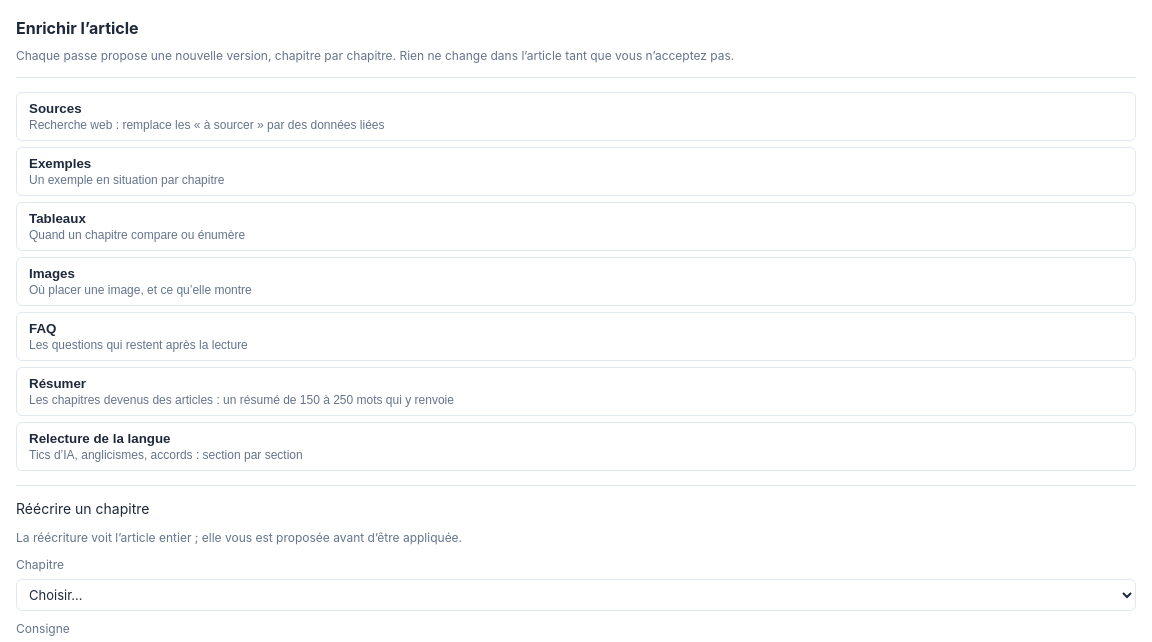
EnrichmentPanel › une image acceptée : le panneau dit où la fournir
Click the button with test id "enrich-pass-images" at (52, 273), box [16,257,1136,306]
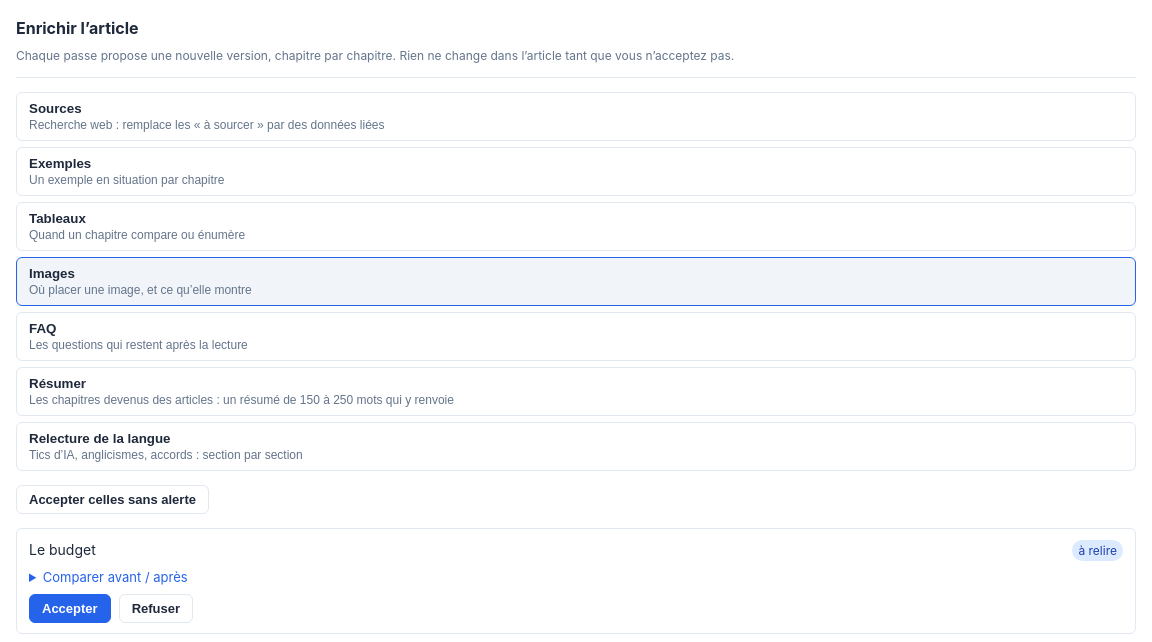
Click the button with test id "proposal-accept" below "Le budget" at (70, 608), box [29,594,111,623]
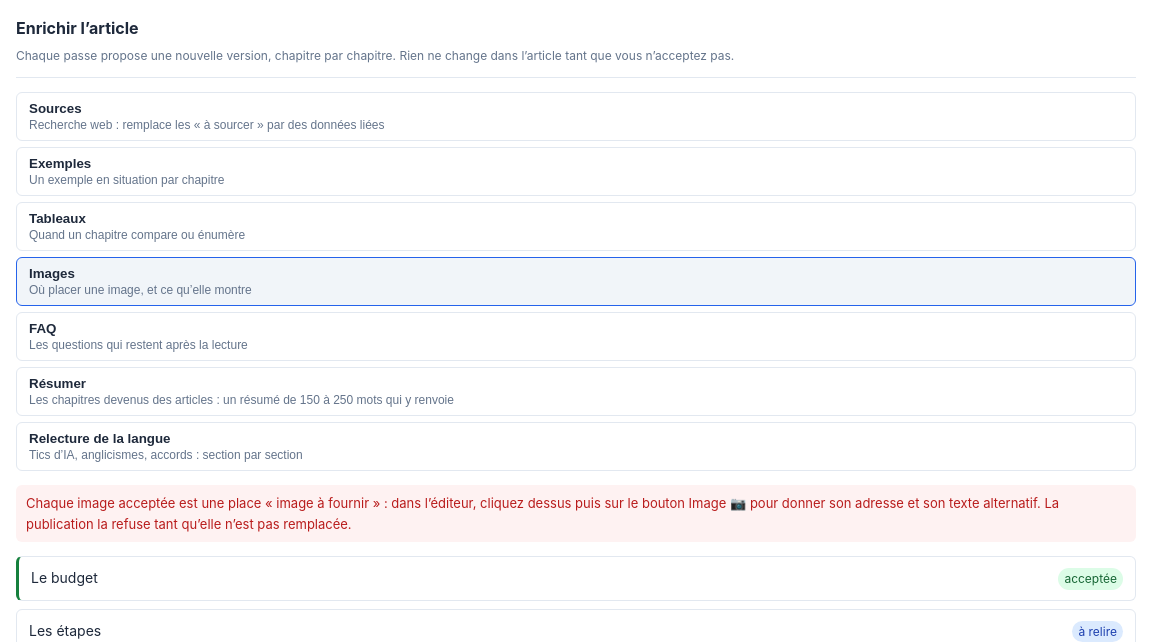
Now the message with test id "enrich-images-to-provide" shows "éditeur", box [26,495,1059,532]
Now the message with test id "enrich-images-to-provide" shows "image", box [26,495,1059,532]
Now the message with test id "enrich-images-to-provide" shows "publication", box [26,495,1059,532]
